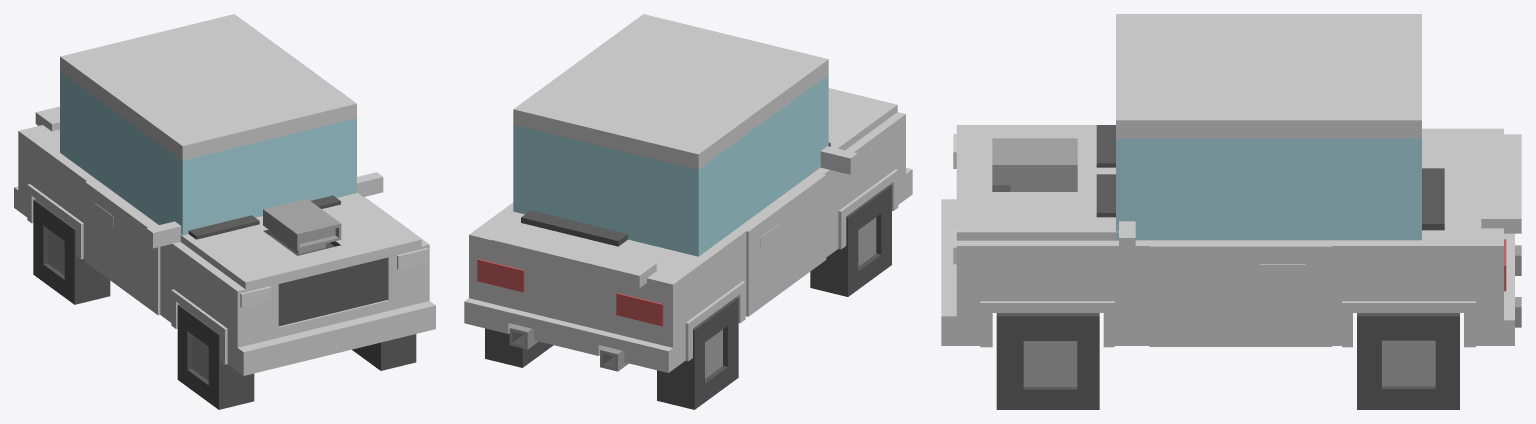
Rendered from sportniavto.fbx.
3 renders of one model, left to right at view 1: azimuth 30°, elevation 25°; view 2: azimuth 150°, elevation 25°; view 3: azimuth 270°, elevation 25°, orthographic. The views are drawn at different scales.
Visible parts, largest first — view 1: Camera; view 2: Camera; view 3: Camera.
Part boxes in pixels (x1,y1,x2,y2): Camera: (14, 14, 435, 409); Camera: (464, 14, 912, 409); Camera: (941, 14, 1521, 409).
Bounding box in the file's own units: 129 × 121 × 226.
